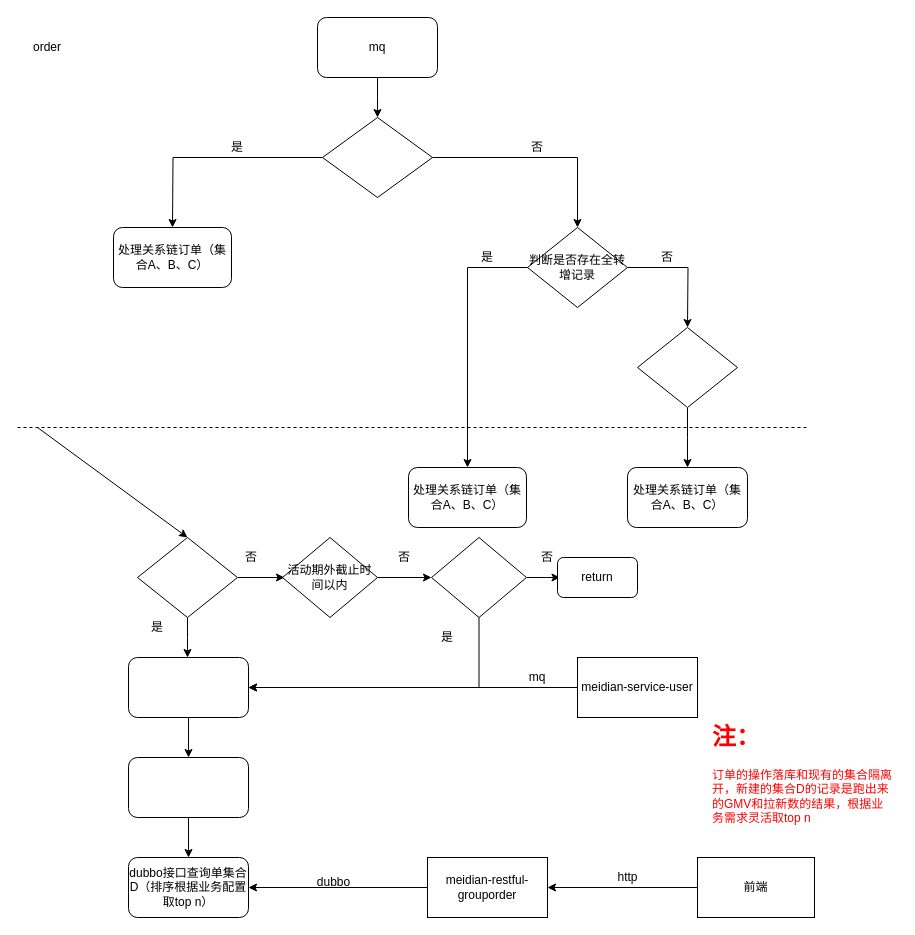
The diagram is 915 pixels wide and 935 high, and some of its shapes have lost their labels. The box of each missing label's shape, as (x1, y1, x2, y2) in pixels:
判断分享者是否是美店主（查询美店主）: (322, 116, 432, 198)
判断是否发生逆向: (430, 536, 526, 618)
判断是否在活动期内: (136, 536, 238, 618)
判断是否存在关系链: (636, 326, 738, 408)
处理数据记录集合D: (128, 756, 248, 818)
拿到片总的userId，记录gmv、积分数据: (128, 656, 248, 718)
